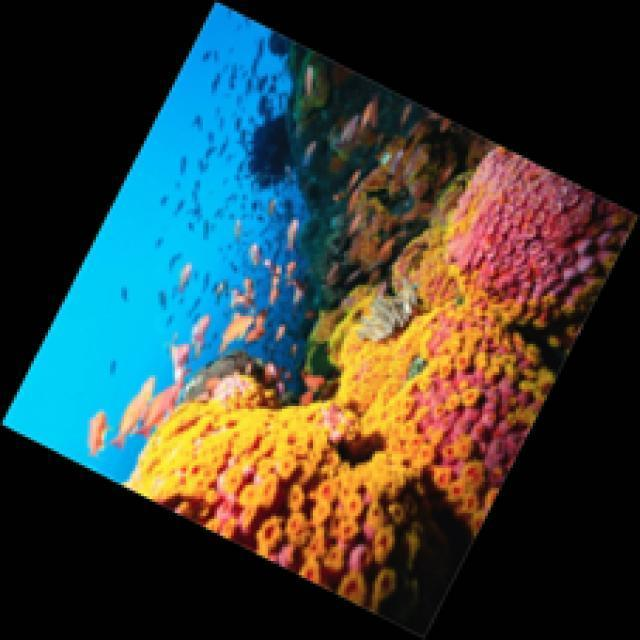Healthy: (126, 177, 613, 612), (445, 148, 626, 302)
